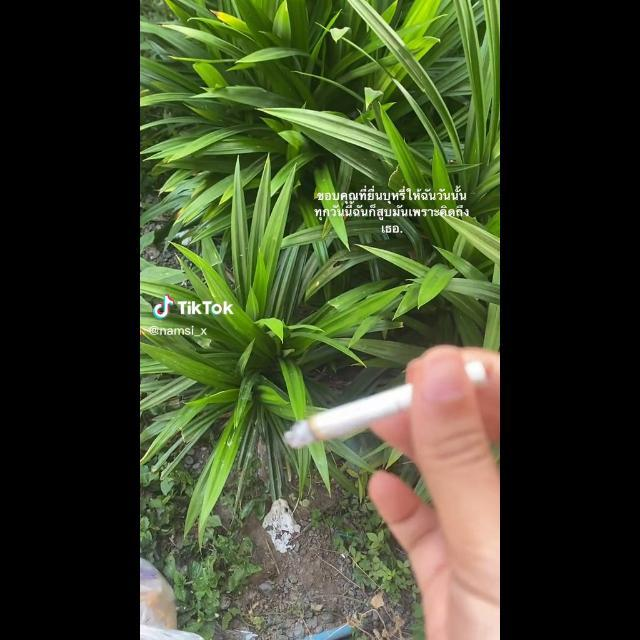rokok: (278, 362, 500, 450)
